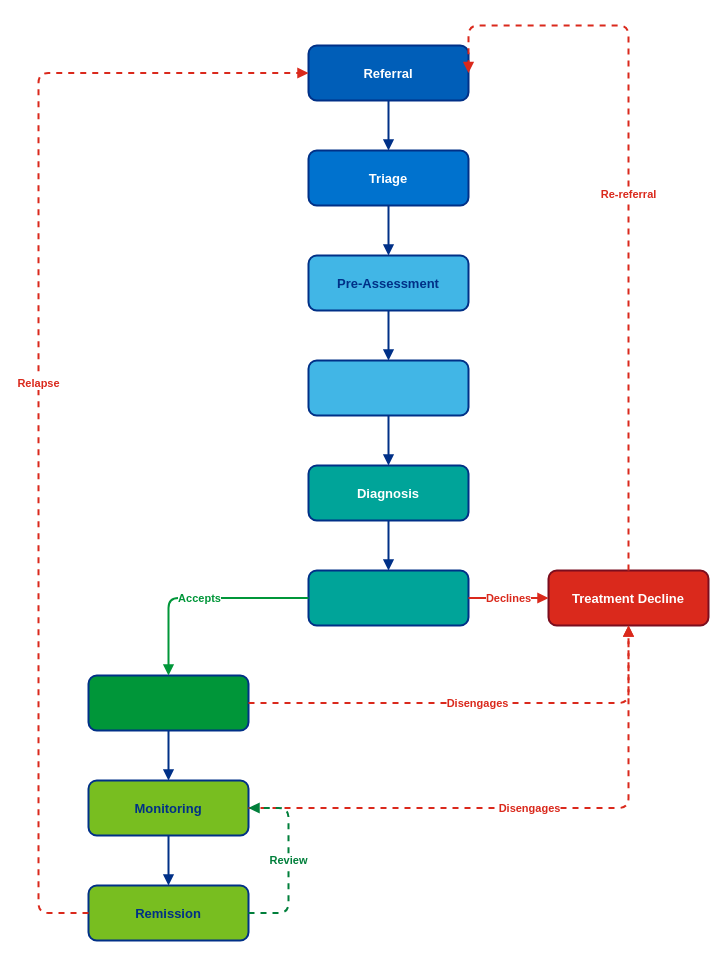
The diagram is 726 pixels wide and 958 high, and some of its shapes have lost their labels. Each missing label, with the centre of its shape:
Active Treatment: (x=168, y=702)
Assessment: (x=388, y=387)
Treatment Planning: (x=388, y=597)
